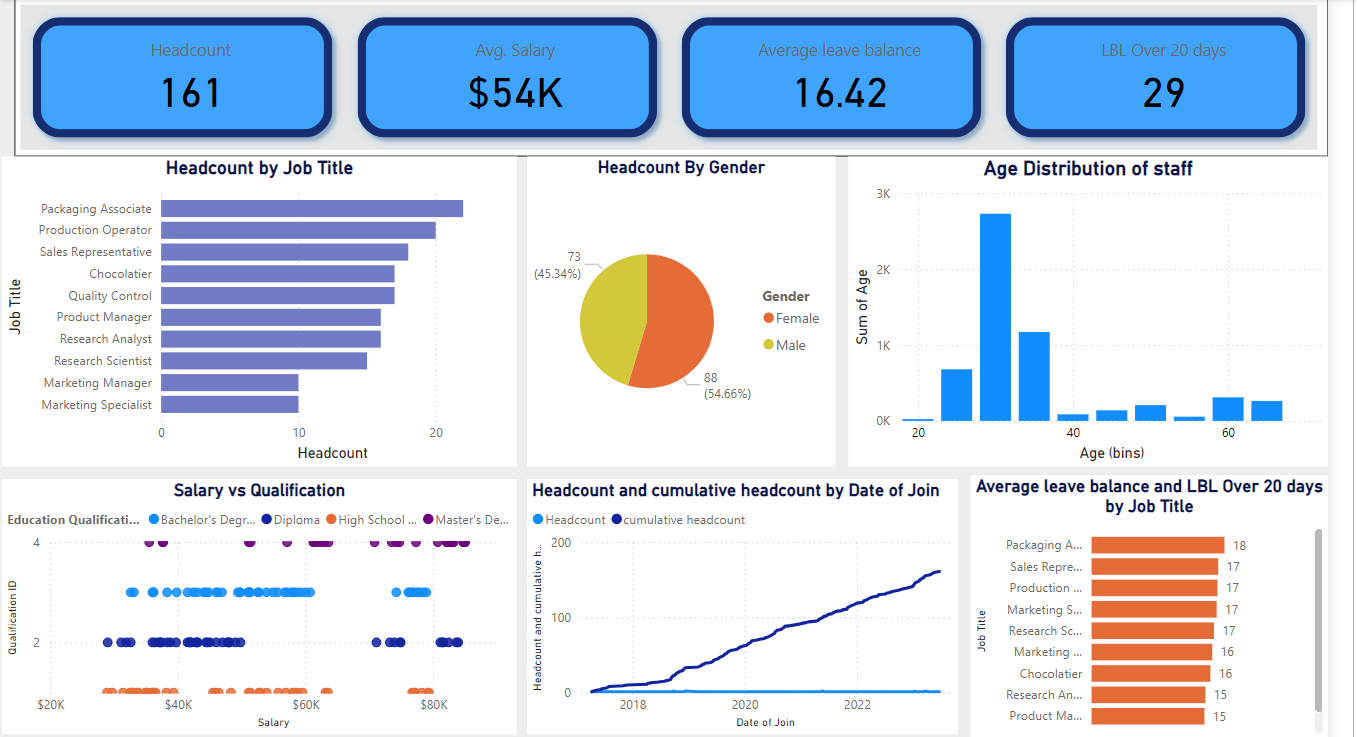

Layout of this report page (visuals, bound fields, positions):
{"tool":"powerbi","page":{"name":"Dashboard","canvas":[1280,720],"ordinal":0},"visuals":[{"type":"cardVisual","fields":{"Data":["staff.Headcount","staff.Avg. Salary","staff.Average leave balance","staff.LBL Over 20 days"]},"box":[12.1,0,1268,152],"z":0},{"type":"barChart","title":"Headcount by Job Title","fields":{"Y":["staff.Headcount"],"Category":["staff.Job Title"]},"box":[0,152,497.1,299.2],"z":1000},{"type":"pieChart","title":"Headcount By Gender","fields":{"Category":["staff.Gender"],"Y":["CountNonNull(staff.Gender)"]},"box":[506.7,152,298,299.2],"z":2000},{"type":"columnChart","title":"Age Distribution of staff","fields":{"Category":["staff.Age (bins)"],"Y":["Sum(staff.Age)"]},"box":[816.8,152,463.3,299.2],"z":3000},{"type":"scatterChart","title":"Salary vs Qualification","fields":{"Series":["staff.Education Qualification"],"Y":["Qual.Qualification ID"],"X":["staff.Salary"]},"box":[0,463.3,497.1,246.1],"z":4000},{"type":"lineChart","fields":{"Y":["staff.Headcount","staff.cumulative headcount"],"Category":["staff.Date of Join"]},"box":[506.7,463.3,416.2,246.1],"z":5000},{"type":"barChart","fields":{"Category":["staff.Job Title"],"Y":["staff.Average leave balance"]},"box":[934.9,459.7,345,254.6],"z":6000}]}

Visuals, with their boxes on the page's 1280x720 design canvas (x1, y1, x2, y2). These are canvas units, not pixel positions in the 1357x737 screenshot, which may show the page scaled, cropped or inside an application window:
cardVisual - staff.Headcount x staff.Avg. Salary: [12,0,1280,152]
"Headcount by Job Title" barChart: [0,152,497,451]
"Headcount By Gender" pieChart: [507,152,805,451]
"Age Distribution of staff" columnChart: [817,152,1280,451]
"Salary vs Qualification" scatterChart: [0,463,497,709]
lineChart - staff.Headcount x staff.cumulative headcount: [507,463,923,709]
barChart - staff.Job Title x staff.Average leave balance: [935,460,1280,714]
